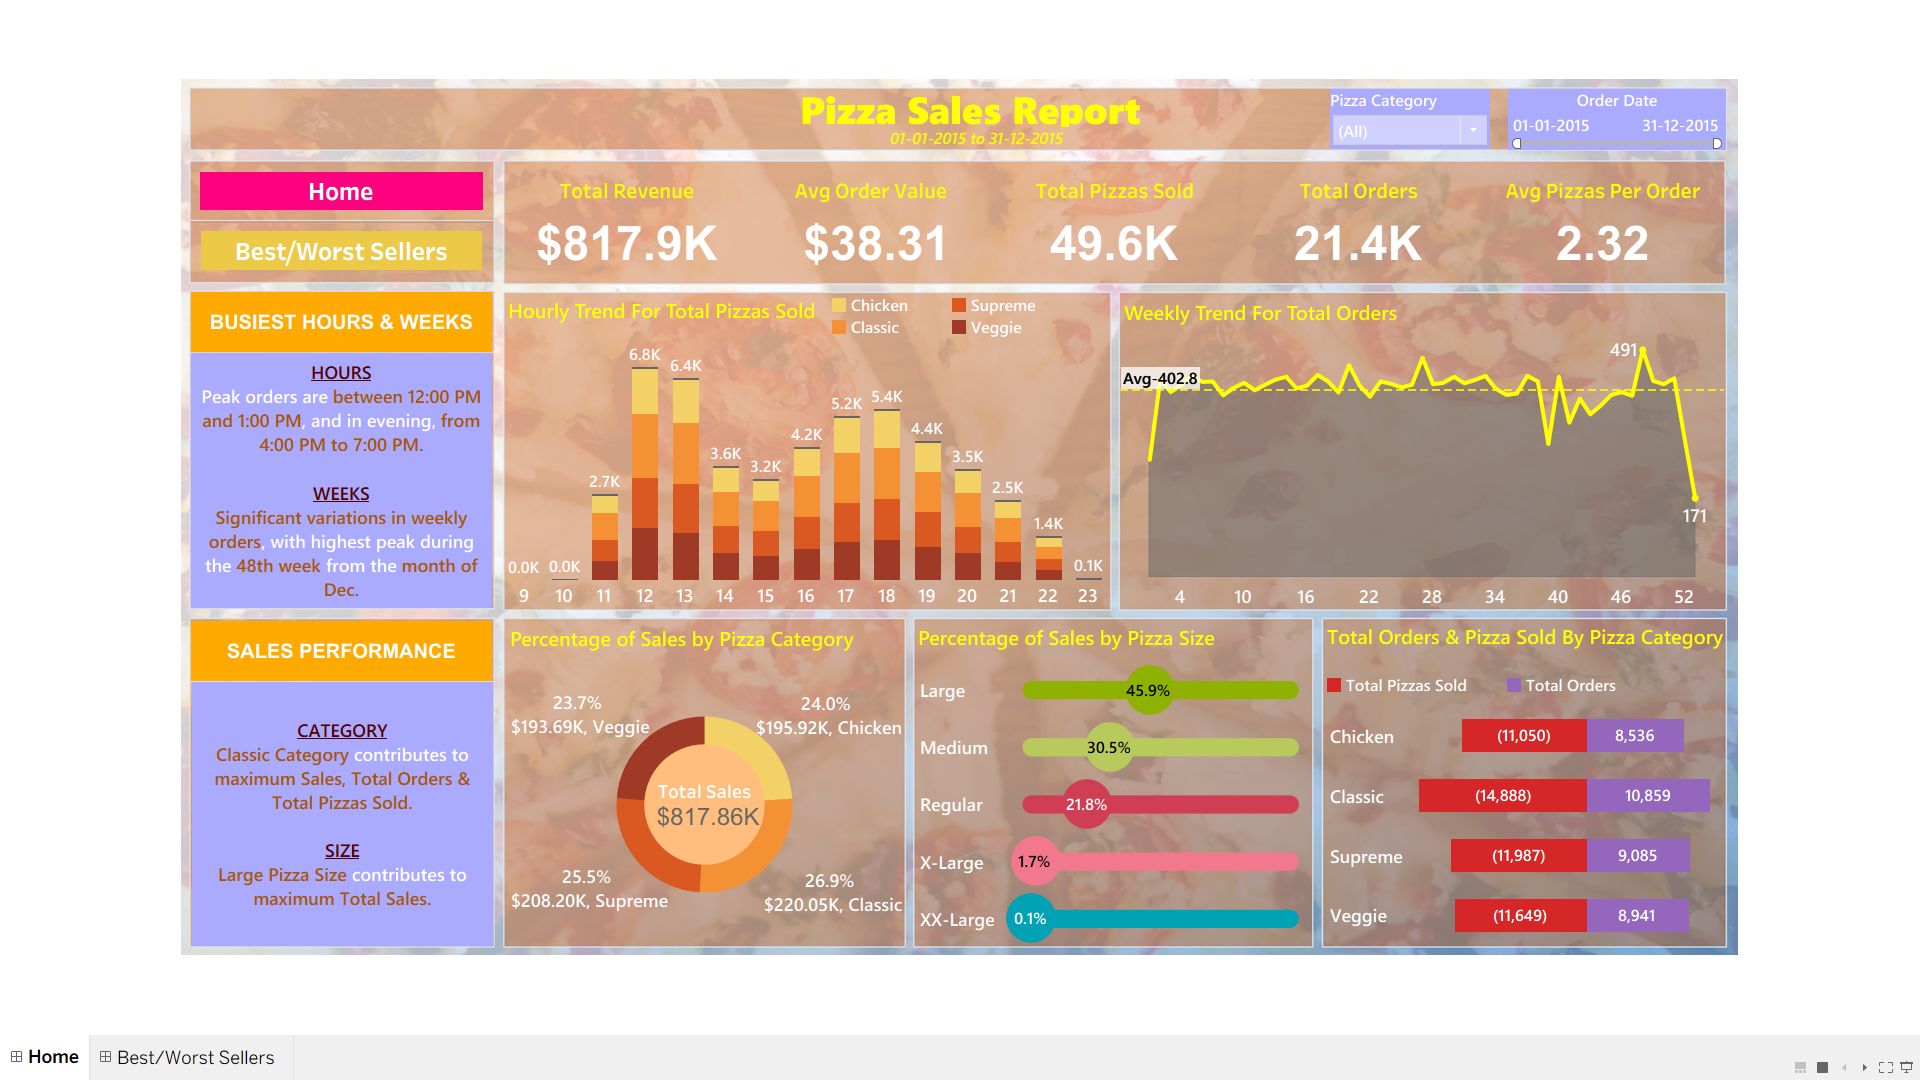

What the dashboard file says about the page in this screenshot:
{"tool":"tableau","page":{"name":"Home","canvas":[1600,900],"ordinal":1},"visuals":[{"type":"image","param":"Image/Pizza Sales Dashboard1.png","box":[8,8,1584,884]},{"type":"filter","title":"Hourly Trend For Total Pizzas Sold","param":"[federated.1mq68v10ph50vp1c1p6bk13lzkgj].[none:pizza_category:nk]","box":[1170,22,160,60]},{"type":"filter","title":"Hourly Trend For Total Pizzas Sold","param":"[federated.1mq68v10ph50vp1c1p6bk13lzkgj].[none:order_date:qk]","box":[1348,22,218,61]},{"type":"text","box":[531,23,558,37]},{"type":"worksheet","title":"Date Range","mark":"Automatic","box":[553,62,529,19]},{"type":"worksheet","title":"KPI Banner","mark":"Automatic","box":[345,97,1220,120]},{"type":"dashboard-object","box":[40,105,283,38]},{"type":"dashboard-object","box":[41,164,281,39]},{"type":"text","box":[31,225,301,60]},{"type":"worksheet","title":"Hourly Trend For Total Pizzas Sold","mark":"Bar","rows":["Calculation_1367570210856963","Calculation_1367570210856963"],"cols":["order_time"],"box":[344,225,605,316]},{"type":"legend","title":"Hourly Trend For Total Pizzas Sold","param":"[federated.1mq68v10ph50vp1c1p6bk13lzkgj].[none:pizza_category:nk]","box":[668,227,282,53]},{"type":"worksheet","title":"Weekly Trend For Total Orders","mark":"Area","rows":["Calculation_1367570210258945","Calculation_1367570210258945"],"cols":["order_date"],"box":[960,227,604,314]},{"type":"text","box":[31,286,301,255]},{"type":"worksheet","title":"Percentage of Sales by Pizza Size","mark":"Line","rows":["pizza_size"],"box":[754,552,398,328]},{"type":"text","box":[1163,552,404,34]},{"type":"worksheet","title":"Percentage of Sales by Pizza Category","mark":"Pie","rows":["Calculation_1367570240147462","Calculation_1367570240217096"],"box":[346,553,397,327]},{"type":"text","box":[31,554,301,60]},{"type":"legend","title":"Total Order & Pizza Sold by Pizza Category","param":"[federated.1mq68v10ph50vp1c1p6bk13lzkgj].[:Measure Names]","box":[1163,607,400,37]},{"type":"text","box":[32,615,301,264]},{"type":"worksheet","title":"Total Order & Pizza Sold by Pizza Category","mark":"Automatic","rows":["pizza_category"],"box":[1164,639,401,239]}]}

Visuals, with their boxes on the page's 1600x900 design canvas (x1, y1, x2, y2). These are canvas units, not pixel positions in the 1920x1080 screenshot, which may show the page scaled, cropped or inside an application window:
image: [8, 8, 1592, 892]
"Hourly Trend For Total Pizzas Sold" filter: [1170, 22, 1330, 82]
"Hourly Trend For Total Pizzas Sold" filter: [1348, 22, 1566, 83]
text: [531, 23, 1089, 60]
"Date Range" worksheet: [553, 62, 1082, 81]
"KPI Banner" worksheet: [345, 97, 1565, 217]
dashboard-object: [40, 105, 323, 143]
dashboard-object: [41, 164, 322, 203]
text: [31, 225, 332, 285]
"Hourly Trend For Total Pizzas Sold" worksheet (Bar marks): [344, 225, 949, 541]
"Hourly Trend For Total Pizzas Sold" legend: [668, 227, 950, 280]
"Weekly Trend For Total Orders" worksheet (Area marks): [960, 227, 1564, 541]
text: [31, 286, 332, 541]
"Percentage of Sales by Pizza Size" worksheet (Line marks): [754, 552, 1152, 880]
text: [1163, 552, 1567, 586]
"Percentage of Sales by Pizza Category" worksheet (Pie marks): [346, 553, 743, 880]
text: [31, 554, 332, 614]
"Total Order & Pizza Sold by Pizza Category" legend: [1163, 607, 1563, 644]
text: [32, 615, 333, 879]
"Total Order & Pizza Sold by Pizza Category" worksheet: [1164, 639, 1565, 878]
